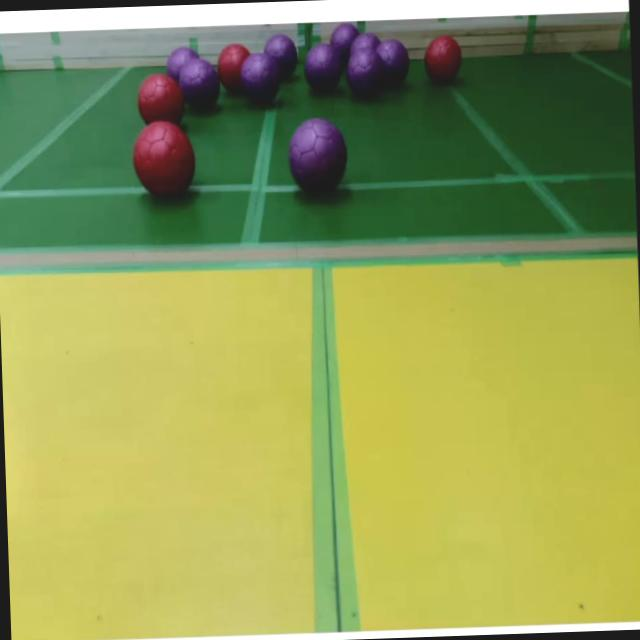purple_ball: (286, 117, 353, 202), (302, 45, 342, 94), (178, 61, 218, 109), (244, 56, 284, 104), (376, 38, 409, 91), (350, 50, 386, 97), (263, 36, 300, 81), (166, 46, 202, 74), (331, 24, 359, 54), (351, 32, 382, 52)
red_ball: (132, 124, 195, 200), (135, 74, 184, 122), (424, 34, 466, 87), (215, 45, 239, 92)
